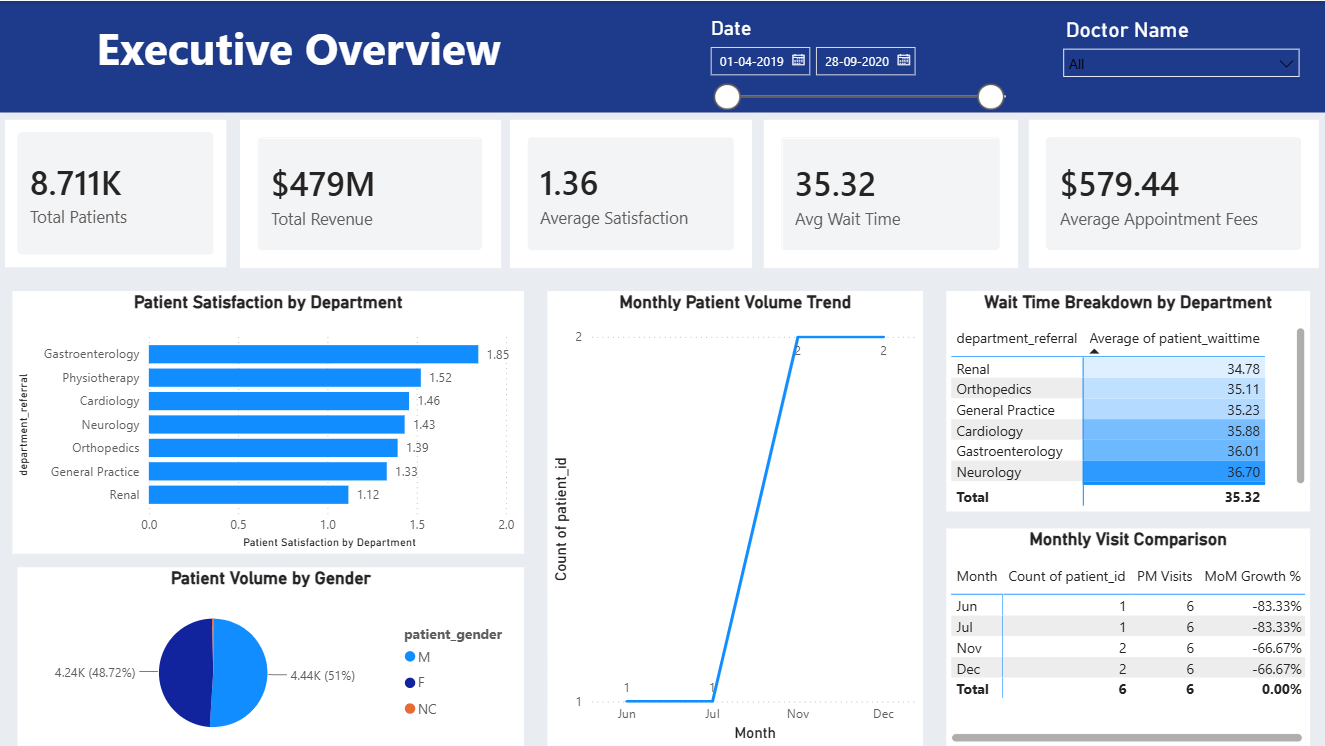

Layout of this report page (visuals, bound fields, positions):
{"tool":"powerbi","page":{"name":"ExecutiveOverview","canvas":[1280,720],"ordinal":0},"visuals":[{"type":"shape","box":[0,0,1280.3,107.6],"z":0},{"type":"textbox","box":[80.7,11,475.7,74.6],"z":1000},{"type":"cardVisual","fields":{"Data":["Count(Fact_Visits.patient_id)"]},"box":[0,109.8,223.2,152],"z":2000},{"type":"cardVisual","fields":{"Data":["Sum(Fact_Doctor_Billing.Total Bill)"]},"box":[231.7,115,251.7,143.3],"z":3000},{"type":"cardVisual","fields":{"Data":["Avg(Fact_Visits.patient_sat_score)"]},"box":[492.5,115,233.3,143.3],"z":4000},{"type":"cardVisual","fields":{"Data":["Avg(Fact_Visits.patient_waittime)"]},"box":[737.5,115,245.8,143.3],"z":5000},{"type":"lineChart","title":"Monthly Patient Volume Trend","fields":{"Y":["CountNonNull(Fact_Visits.patient_id)"],"Category":["Dim_Date.Month"]},"box":[528.8,280,362.5,440],"z":6000},{"type":"clusteredBarChart","title":"Patient Satisfaction by Department","fields":{"Y":["Avg(Fact_Visits.patient_sat_score)"],"Category":["Fact_Visits.department_referral"]},"box":[12.5,280,493.8,253.8],"z":7000},{"type":"slicer","fields":{"Values":["Fact_Doctor_Billing.Doctor Name"]},"box":[1016.2,11,248.2,74.6],"z":8000},{"type":"slicer","fields":{"Values":["Fact_Visits.date"]},"box":[673.8,11.2,318.8,155],"z":9000},{"type":"pieChart","title":"Patient Volume by Gender","fields":{"Category":["Fact_Visits.patient_gender"],"Y":["CountNonNull(Fact_Visits.patient_id)"]},"box":[17.1,546.6,489.1,173.6],"z":10000},{"type":"pivotTable","title":"Monthly Visit Comparison","fields":{"Rows":["Dim_Date.Month"],"Values":["CountNonNull(Fact_Visits.patient_id)","Dim_Date.PM Visits","Dim_Date.MoM Growth %"]},"box":[913.8,508.8,351.2,211.2],"z":11000},{"type":"pivotTable","title":"Wait Time Breakdown by Department","fields":{"Rows":["Fact_Visits.department_referral"],"Values":["Avg(Fact_Visits.patient_waittime)"]},"box":[913.8,280,351.2,212.5],"z":12000},{"type":"cardVisual","fields":{"Data":["Avg(Fact_Doctor_Billing.Appointment Fees)"]},"box":[992.5,115,280,143.3],"z":13000}]}

Visuals, with their boxes in screenshot pixels (x1, y1, x2, y2), scaled from the page's 1280x720 canvas onto the 1325x746 screenshot:
shape: region(0, 0, 1324, 111)
textbox: region(84, 11, 576, 89)
cardVisual - Count(Fact_Visits.patient_id): region(0, 114, 231, 271)
cardVisual - Sum(Fact_Doctor_Billing.Total Bill): region(240, 119, 500, 268)
cardVisual - Avg(Fact_Visits.patient_sat_score): region(510, 119, 751, 268)
cardVisual - Avg(Fact_Visits.patient_waittime): region(763, 119, 1018, 268)
"Monthly Patient Volume Trend" lineChart: region(547, 290, 923, 745)
"Patient Satisfaction by Department" clusteredBarChart: region(13, 290, 524, 553)
slicer - Fact_Doctor_Billing.Doctor Name: region(1052, 11, 1309, 89)
slicer - Fact_Visits.date: region(697, 12, 1027, 172)
"Patient Volume by Gender" pieChart: region(18, 566, 524, 745)
"Monthly Visit Comparison" pivotTable: region(946, 527, 1309, 745)
"Wait Time Breakdown by Department" pivotTable: region(946, 290, 1309, 510)
cardVisual - Avg(Fact_Doctor_Billing.Appointment Fees): region(1027, 119, 1317, 268)
